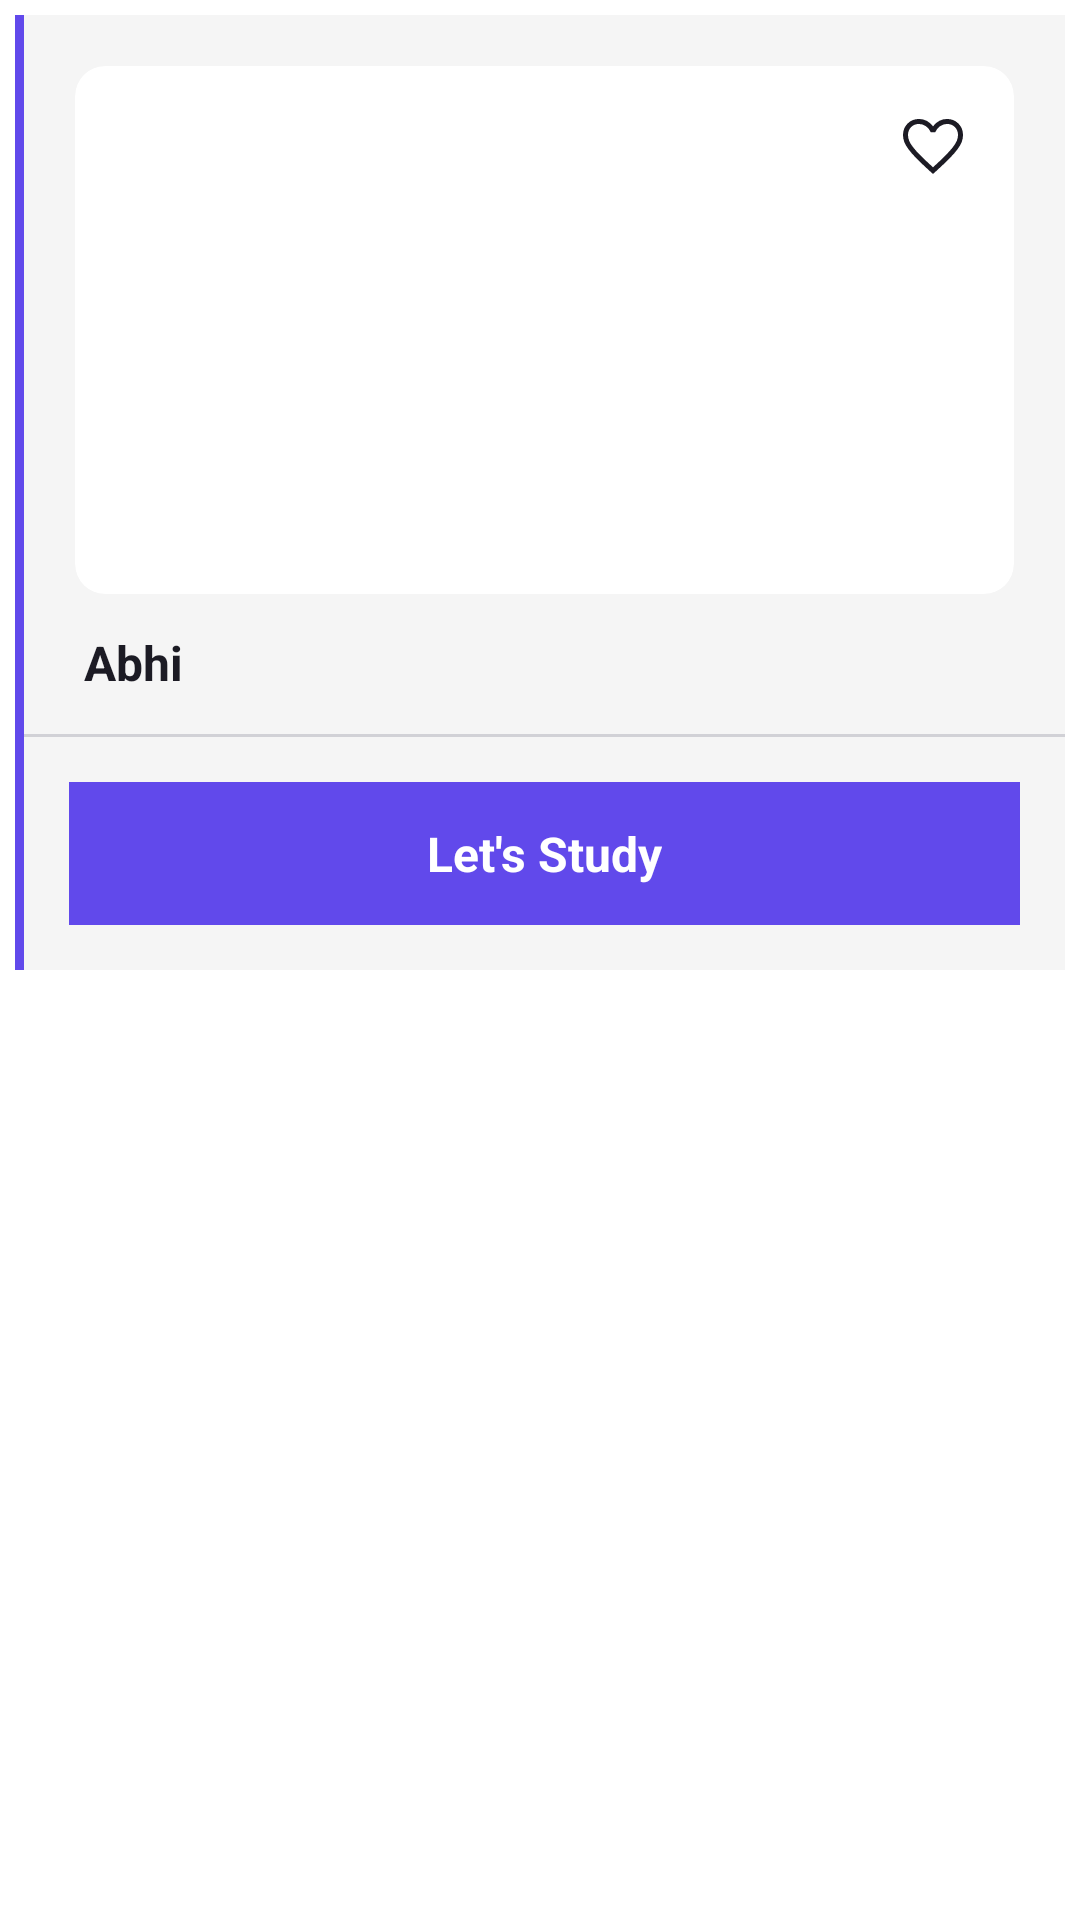

Icon bounding boxes for this 1080x1920 phone screenshot, format (x1, y1, x2, y2):
favorite: (903, 119, 963, 174)
